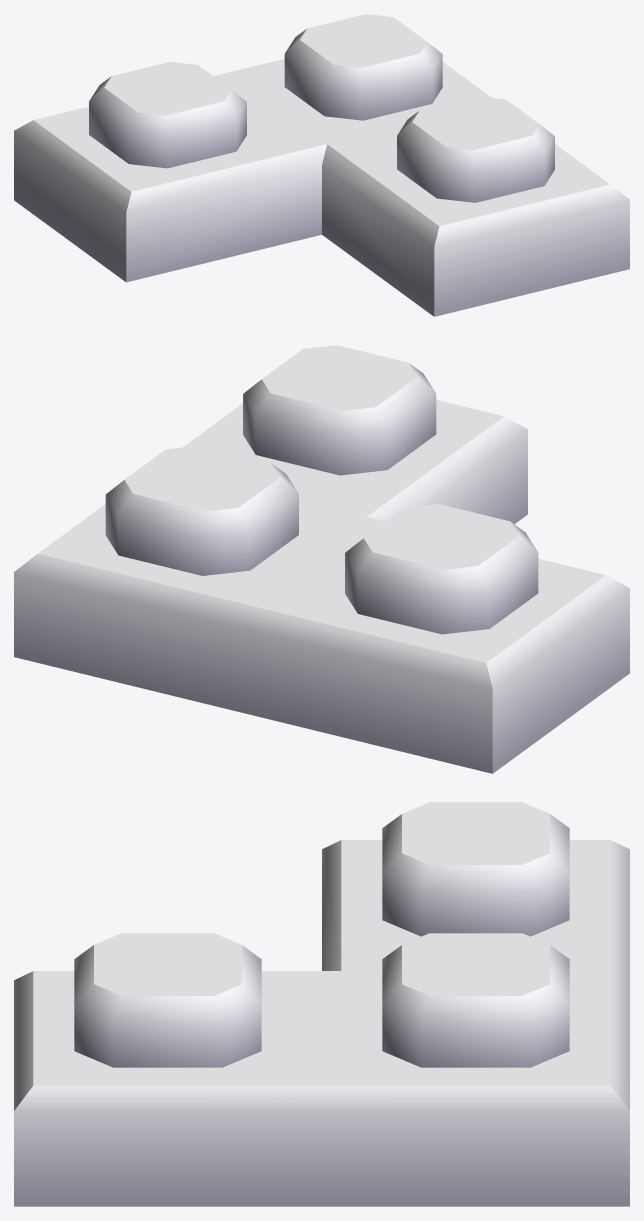
The model's file is brick-kit--bevel-hq-plate-corner.glb.
3 views of the same model, one above another, from view 1: azimuth 30°, elevation 25°; view 2: azimuth 150°, elevation 25°; view 3: azimuth 270°, elevation 25° (orthographic). The views are drawn at different scales.
Parts seen in each view (by area): view 1: bevel-hq-plate-corner; view 2: bevel-hq-plate-corner; view 3: bevel-hq-plate-corner.
Boxes of the visible parts, x1,y1,x2,y2 form: bevel-hq-plate-corner: (14,14,629,316); bevel-hq-plate-corner: (14,345,629,773); bevel-hq-plate-corner: (14,802,629,1206).
Bounding box in the file's own units: 0.159 × 0.05 × 0.158.
1 material, 1 textured.
